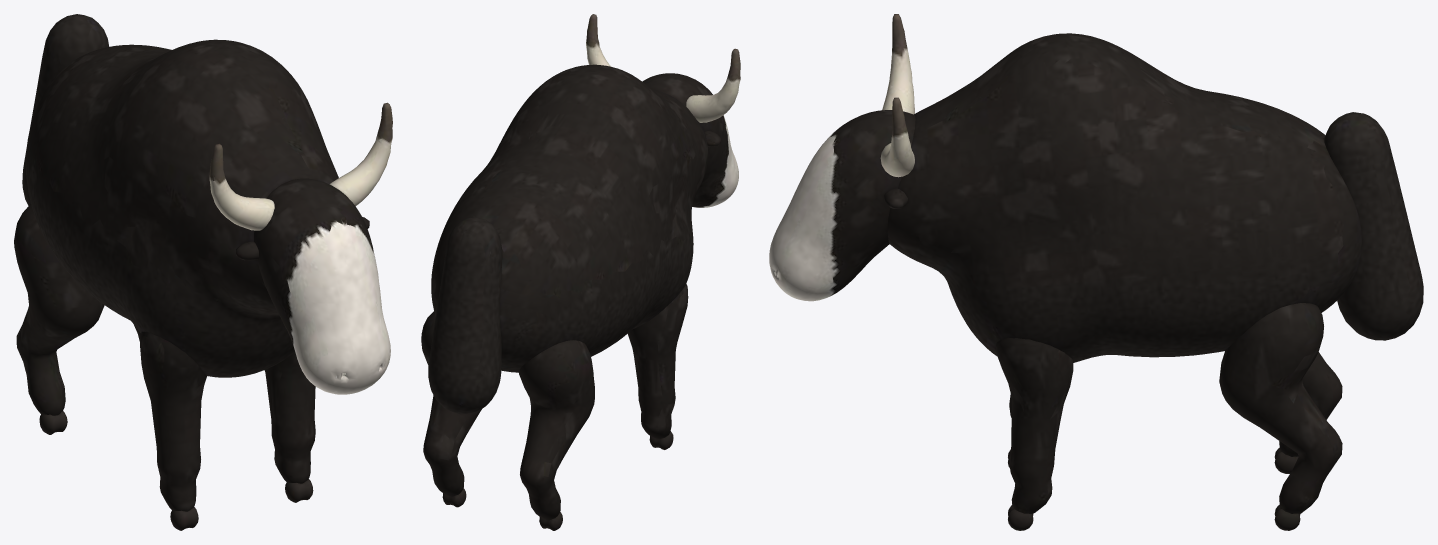
File: animal_yak.glb
The picture shows the model from 3 angles, left to right: view 1: azimuth 30°, elevation 25°; view 2: azimuth 150°, elevation 25°; view 3: azimuth 270°, elevation 25°; orthographic projection. The views are drawn at different scales.
Parts seen in each view (by area): view 1: animal_yak, head, leg2, leg0, leg1, tail; view 2: animal_yak, tail, leg2, head, leg0, leg3; view 3: animal_yak, head, leg3, tail, leg1, leg2.
Boxes of the visible parts, x1,y1,x2,y2 form: animal_yak: (25,39,338,377); head: (209,102,392,394); leg2: (14,204,104,434); leg0: (140,331,206,530); leg1: (264,352,315,502); tail: (22,14,109,205); animal_yak: (431,64,708,372); tail: (428,217,502,414); leg2: (518,340,594,530); head: (586,14,740,207); leg0: (627,284,688,449); leg3: (421,311,481,507); animal_yak: (887,33,1362,362); head: (769,14,915,301); leg3: (1219,303,1342,530); tail: (1324,112,1423,340); leg1: (995,337,1073,530); leg2: (1274,352,1342,473).
Size of the model in its own units: 0.2746 by 0.562 by 0.7284.
Materials: 1 (1 with a texture image).
